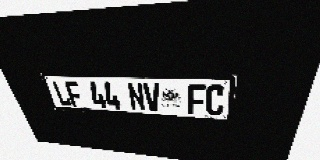4: (87, 81, 108, 108), (101, 82, 121, 109)
C: (205, 84, 226, 116)
F: (187, 84, 206, 115), (64, 81, 85, 107)
L: (51, 80, 72, 106)
N: (126, 82, 146, 111)
V: (143, 83, 161, 112)
